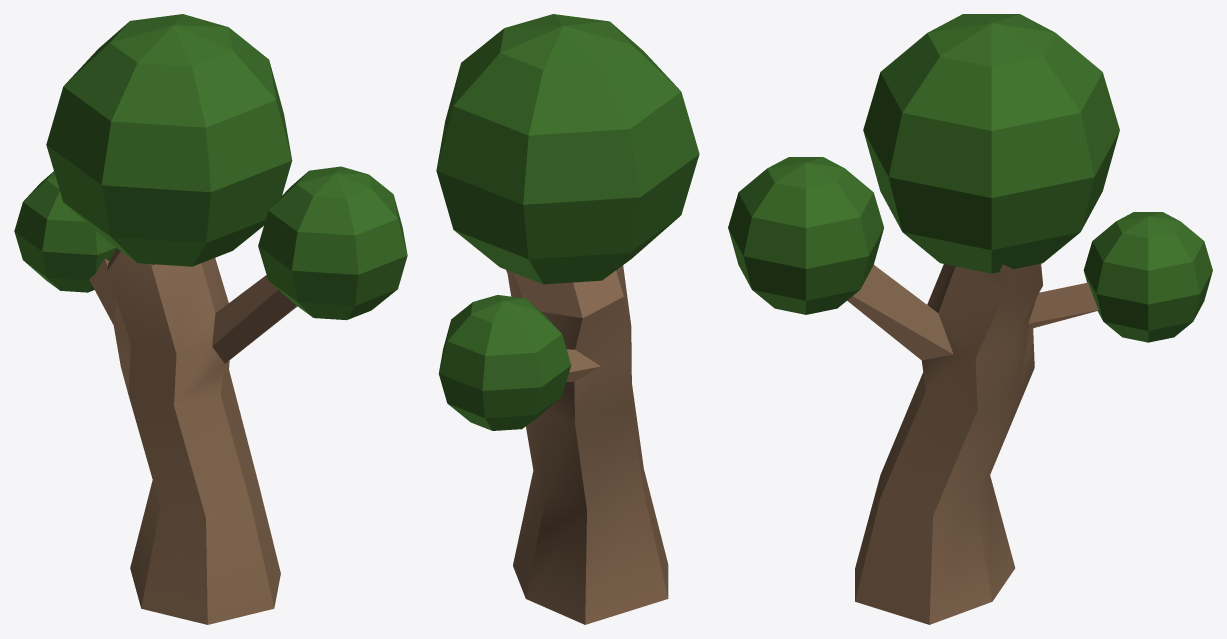
Rendered from Arbol_1.fbx.
3 renders of one model, left to right at view 1: azimuth 30°, elevation 25°; view 2: azimuth 150°, elevation 25°; view 3: azimuth 270°, elevation 25°, orthographic. The views are drawn at different scales.
Visible parts, largest first — view 1: pSphere2, pCylinder1, pSphere3, pSphere1; view 2: pSphere2, pCylinder1, pSphere1; view 3: pSphere2, pCylinder1, pSphere3, pSphere1.
Boxes of the visible parts, <box> form: pSphere2: <box>46,14,292,266</box>; pCylinder1: <box>89,248,297,624</box>; pSphere3: <box>258,166,407,320</box>; pSphere1: <box>14,171,116,292</box>; pSphere2: <box>436,14,699,284</box>; pCylinder1: <box>506,265,668,624</box>; pSphere1: <box>438,295,571,430</box>; pSphere2: <box>863,14,1119,273</box>; pCylinder1: <box>847,263,1098,624</box>; pSphere3: <box>728,157,883,314</box>; pSphere1: <box>1083,212,1212,342</box>.
Bounding box in the file's own units: 5.24 × 11.43 × 8.93.
